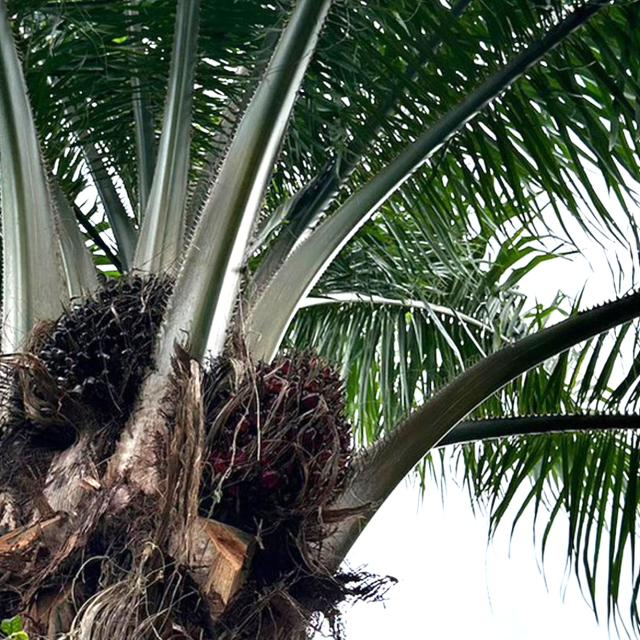ripe: (209, 343, 354, 515), (27, 254, 174, 418)
